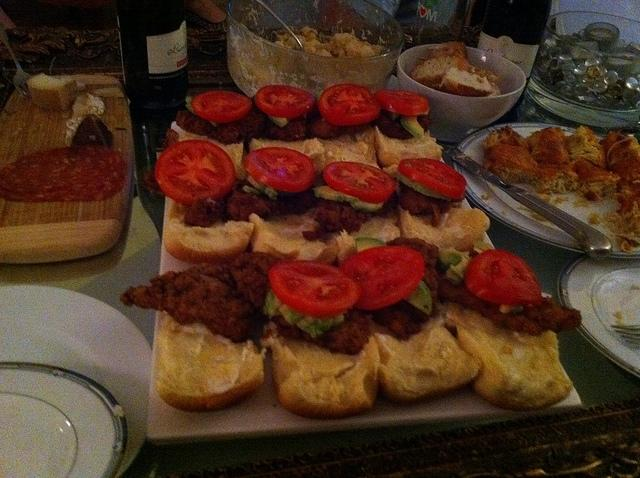tomato: (338, 246, 425, 310), (268, 260, 360, 318), (156, 139, 237, 204), (463, 249, 542, 307), (244, 146, 315, 192), (397, 158, 467, 200), (324, 162, 394, 202), (318, 84, 381, 125), (191, 90, 252, 124), (256, 85, 316, 118), (372, 90, 430, 115)
